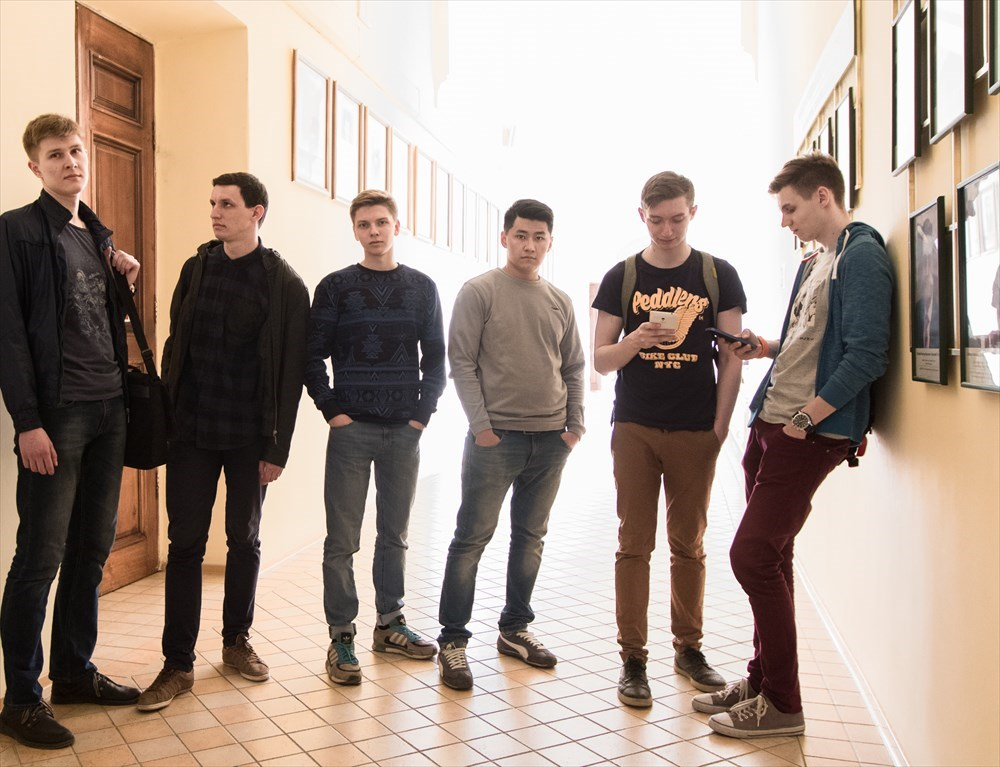students: (691, 152, 901, 740), (1, 111, 150, 753), (138, 170, 311, 711), (592, 169, 747, 711), (440, 197, 585, 689), (309, 188, 447, 685)
